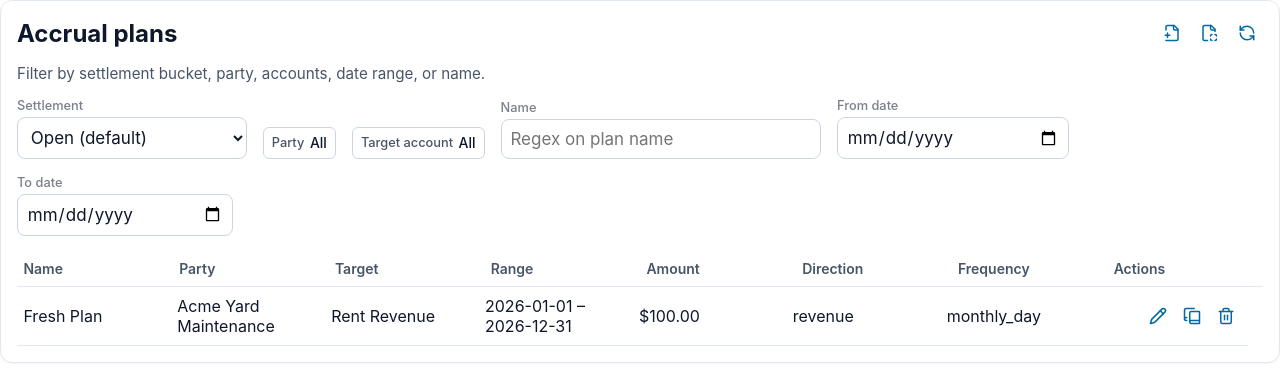
Test: AccrualPlansSection edit and cancel › removes the plan from the list after cancel is confirmed
The width and height of the screenshot is (1280, 380).
Expected: the text "Fresh Plan" is shown, [17,287,171,345]
Click the button named "Cancel plan Fresh Plan". click: click(1226, 316)
box: [1210,300,1242,332]
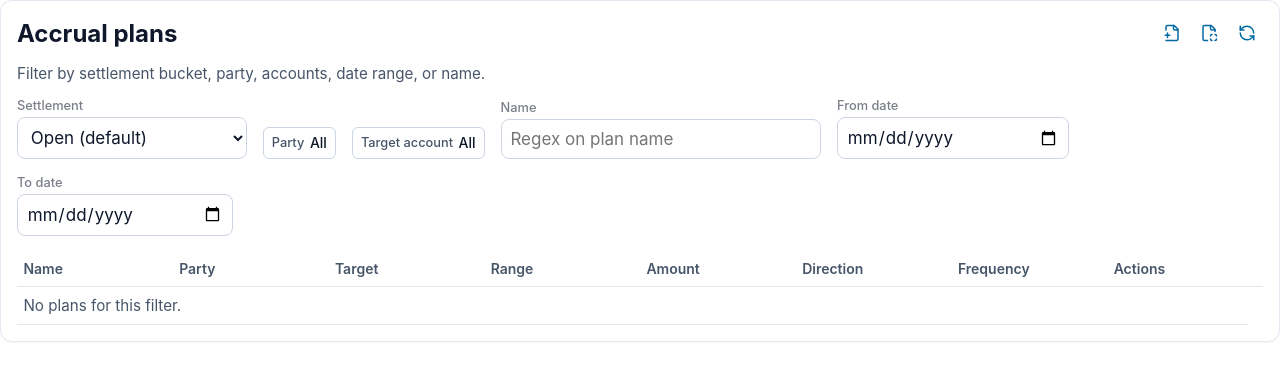
Result: the text "No plans for this filter." is shown at [17,287,1248,324]
